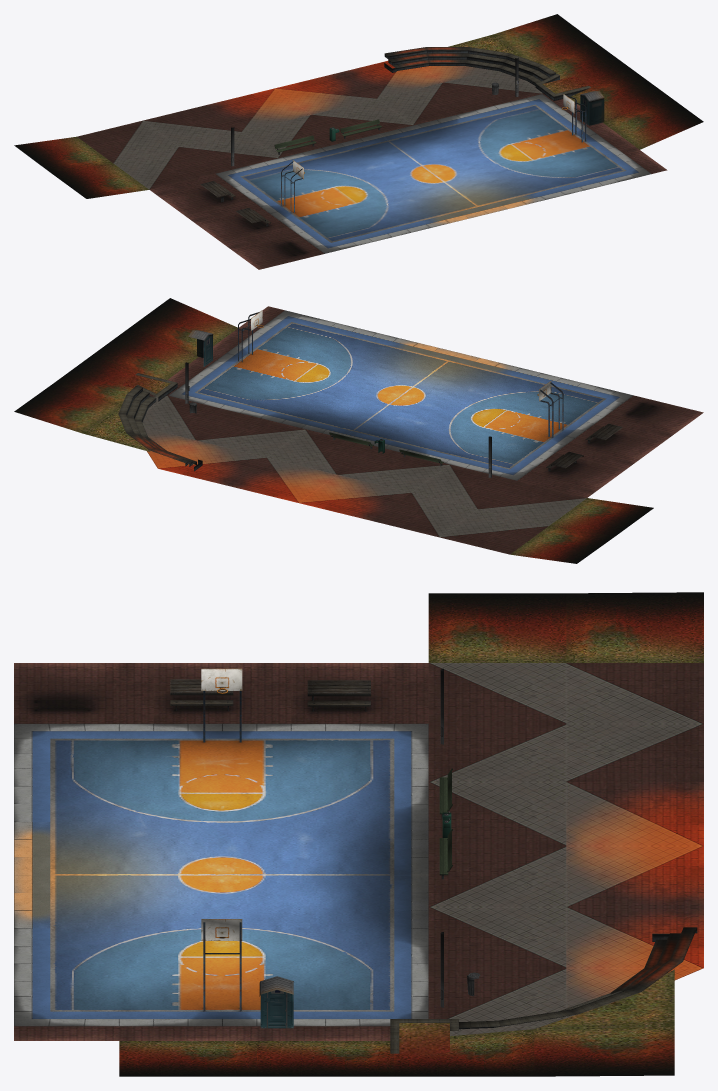
Rendered from court_park_mesh.fbx.
The picture shows the model from 3 angles, top to bottom: view 1: azimuth 30°, elevation 25°; view 2: azimuth 150°, elevation 25°; view 3: azimuth 270°, elevation 25°; orthographic projection. The views are drawn at different scales.
Parts seen in each view (by area): view 1: court_park_mesh; view 2: court_park_mesh; view 3: court_park_mesh.
Part boxes in pixels (x1,y1,x2,y2): court_park_mesh: [14, 14, 703, 269]; court_park_mesh: [14, 298, 703, 563]; court_park_mesh: [14, 592, 703, 1076].
Size of the model in its own units: 170 by 13.05 by 100.
